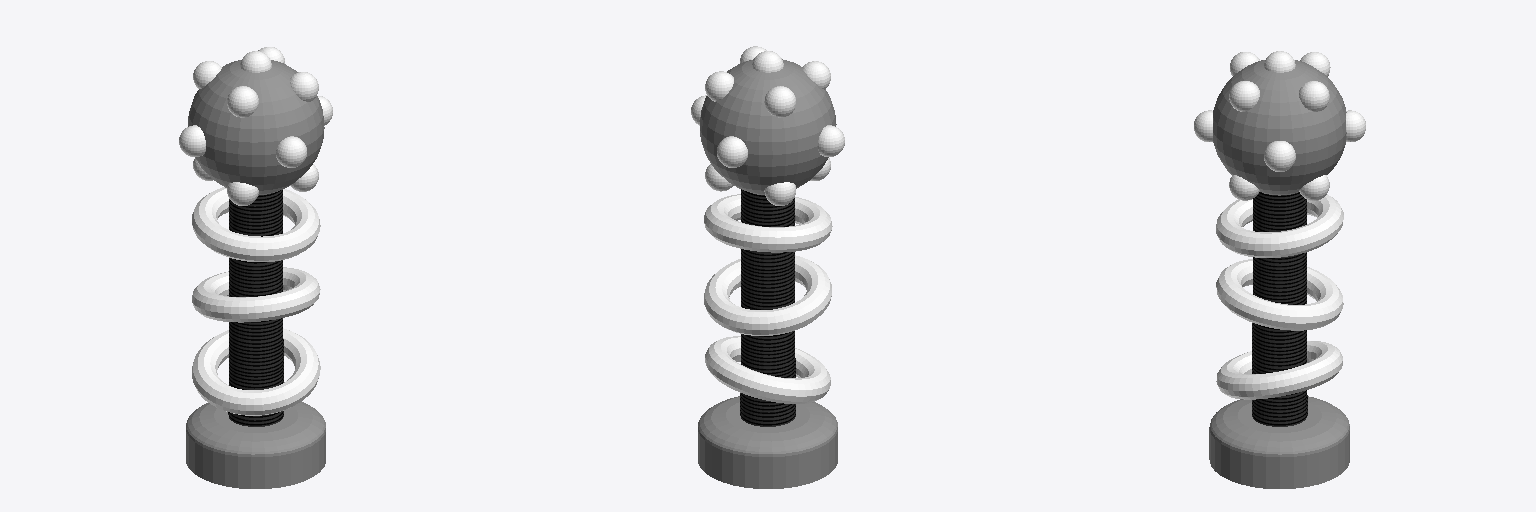
3 renders of one model, left to right at view 1: azimuth 30°, elevation 25°; view 2: azimuth 150°, elevation 25°; view 3: azimuth 270°, elevation 25°, orthographic.
Parts seen in each view (by area): view 1: Cylinder; view 2: Cylinder; view 3: Cylinder.
Boxes of the visible parts, <box> form: Cylinder: <box>179,47,332,488</box>; Cylinder: <box>691,46,844,488</box>; Cylinder: <box>1194,51,1365,488</box>.
Size of the model in its own units: 4.91 by 12.75 by 4.9.
1 materials, 1 textured.